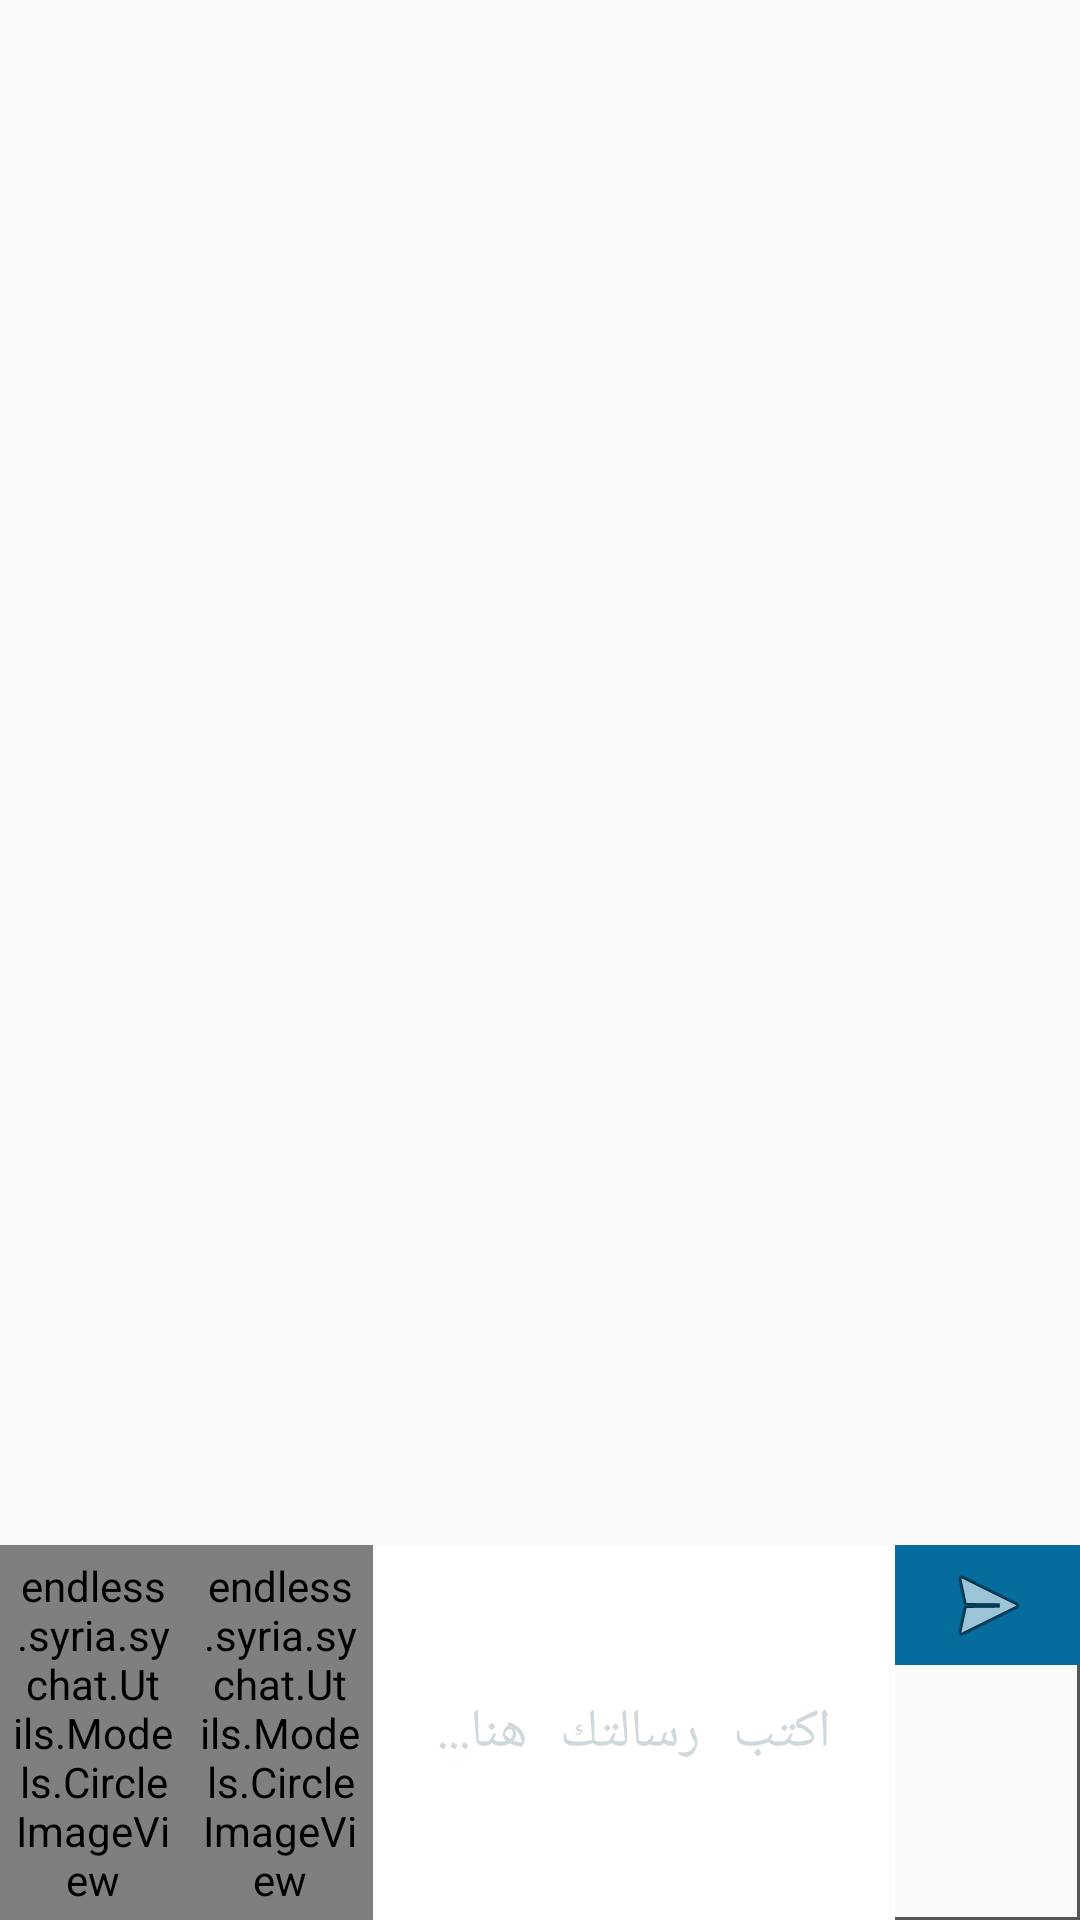

Screen size 1080w x 1920h. Icon name, then its box in pixels as (x1, y1, x2, y2):
send: (895, 1545, 1080, 1665)
